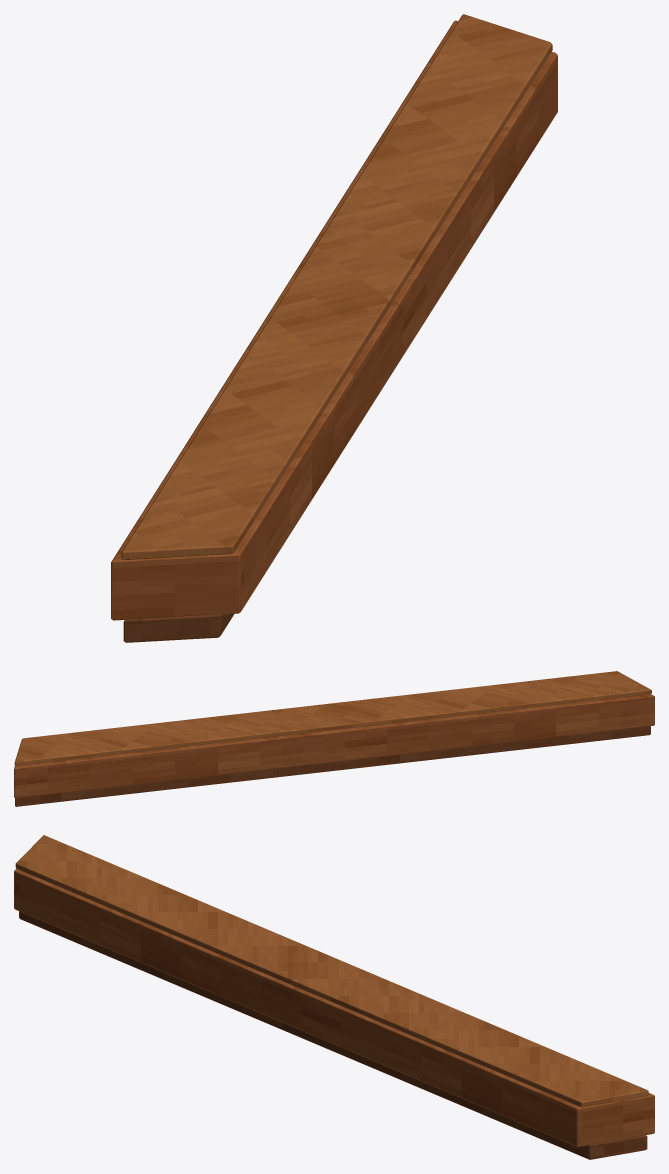
File: Coping-5.glb
3 views of the same model, one above another, from view 1: azimuth 30°, elevation 25°; view 2: azimuth 150°, elevation 25°; view 3: azimuth 270°, elevation 25° (orthographic). The views are drawn at different scales.
Visible parts, largest first — view 1: Coping-5; view 2: Coping-5; view 3: Coping-5.
Boxes of the visible parts, x1,y1,x2,y2 form: Coping-5: [111, 14, 557, 642]; Coping-5: [14, 671, 654, 806]; Coping-5: [14, 835, 654, 1159].
Size of the model in its own units: 2.49 by 0.257 by 2.49.
Materials: 3 (3 with a texture image).
